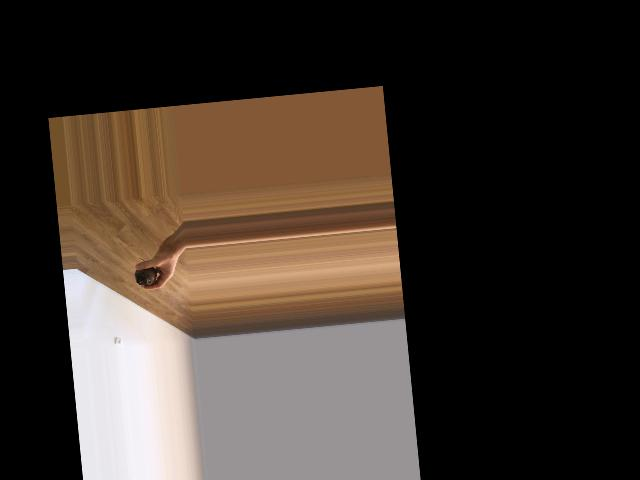beet: (132, 256, 157, 287)
